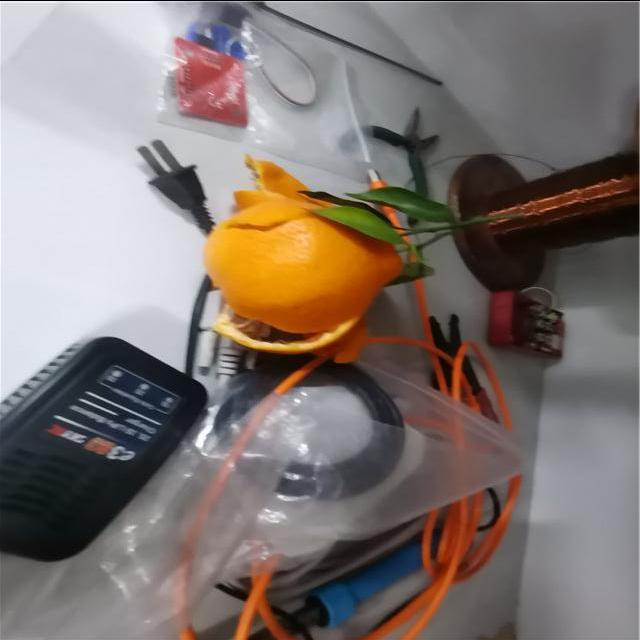orange peel: (207, 161, 376, 361)
